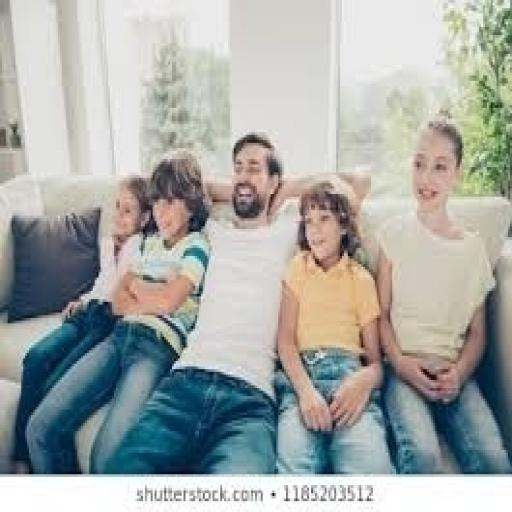sitting: (12, 113, 506, 472)
